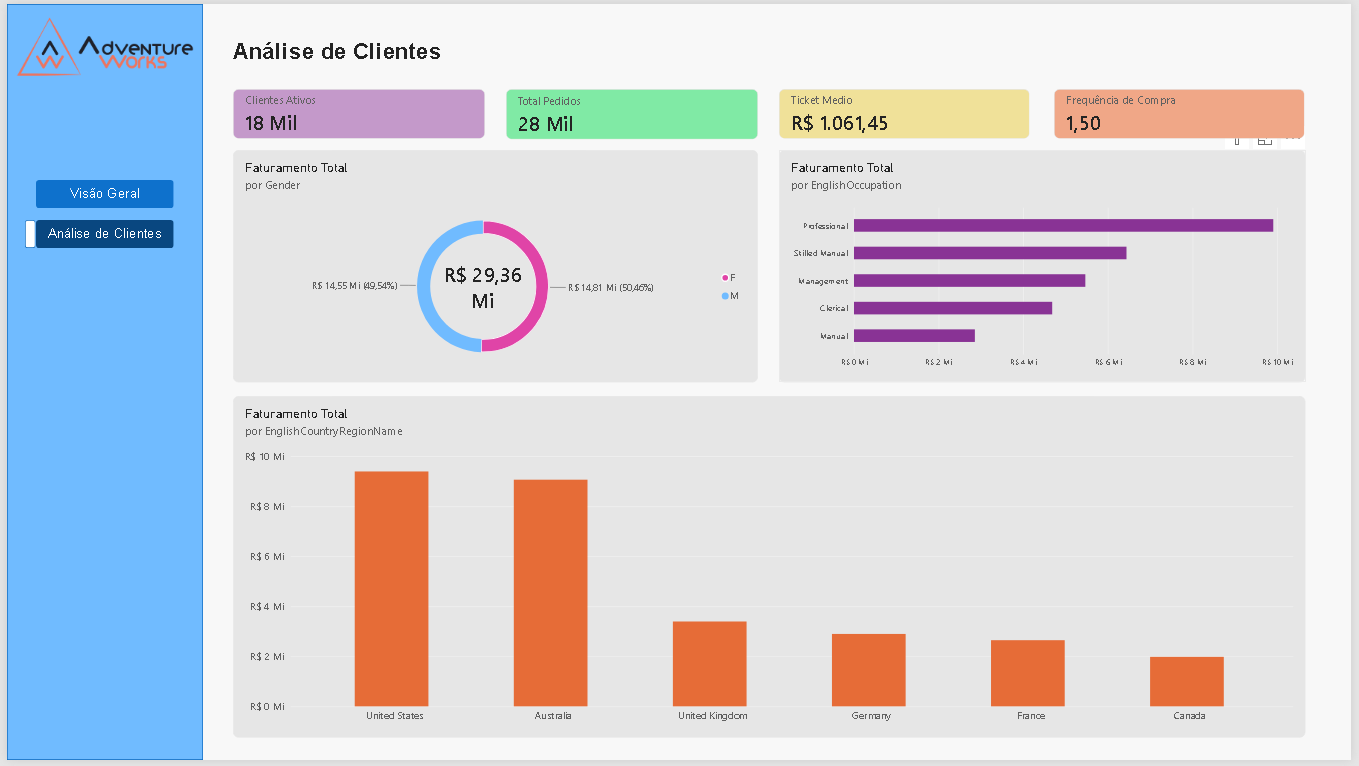

What the dashboard file says about the page in this screenshot:
{"tool":"powerbi","page":{"name":"Análise de Clientes","canvas":[1920,1080],"ordinal":1},"visuals":[{"type":"shape","box":[0,0,280,1080],"z":0},{"type":"image","box":[0,0,280,122],"z":1000},{"type":"textbox","box":[323.3,48.3,360,40],"z":2000},{"type":"donutChart","title":"Faturamento por Gênero","fields":{"Category":["DimCustomer.Gender"],"Y":["FactInternetSales.Faturamento Total"]},"box":[323.3,208.3,750,331.7],"z":3000},{"type":"cardVisual","fields":{"Data":["FactInternetSales.Clientes Ativos"]},"box":[323.3,121.7,360,71.7],"z":4000},{"type":"cardVisual","fields":{"Data":["FactInternetSales.Total Pedidos"]},"box":[712.5,121.2,360,72],"z":5000},{"type":"cardVisual","fields":{"Data":["FactInternetSales.Ticket Medio"]},"box":[1103.3,121.7,358.3,71.7],"z":6000},{"type":"clusteredColumnChart","title":"Faturamento por País","fields":{"Category":["DimGeography.EnglishCountryRegionName"],"Y":["FactInternetSales.Faturamento Total"]},"box":[323.3,560,1531.7,488.3],"z":7000},{"type":"barChart","title":"Faturamento por Profissão","fields":{"Category":["DimCustomer.EnglishOccupation"],"Y":["FactInternetSales.Faturamento Total"]},"box":[1103.3,208.3,751.7,331.7],"z":8000},{"type":"actionButton","box":[41.7,250.8,196.7,40],"z":9000},{"type":"actionButton","box":[41.7,308.3,196.7,40],"z":10000},{"type":"shape","box":[25,308.5,12,40],"z":11000},{"type":"cardVisual","fields":{"Data":["FactInternetSales.Frequência de Compra"]},"box":[1495.7,121.4,358.6,71.4],"z":12000},{"type":"actionButton","box":[41.7,361.2,196.7,40],"z":12001}]}

Visuals, with their boxes on the page's 1920x1080 design canvas (x1, y1, x2, y2). These are canvas units, not pixel positions in the 1359x766 screenshot, which may show the page scaled, cropped or inside an application window:
shape: (left=0, top=0, right=280, bottom=1080)
image: (left=0, top=0, right=280, bottom=122)
textbox: (left=323, top=48, right=683, bottom=88)
"Faturamento por Gênero" donutChart: (left=323, top=208, right=1073, bottom=540)
cardVisual - FactInternetSales.Clientes Ativos: (left=323, top=122, right=683, bottom=193)
cardVisual - FactInternetSales.Total Pedidos: (left=712, top=121, right=1072, bottom=193)
cardVisual - FactInternetSales.Ticket Medio: (left=1103, top=122, right=1462, bottom=193)
"Faturamento por País" clusteredColumnChart: (left=323, top=560, right=1855, bottom=1048)
"Faturamento por Profissão" barChart: (left=1103, top=208, right=1855, bottom=540)
actionButton: (left=42, top=251, right=238, bottom=291)
actionButton: (left=42, top=308, right=238, bottom=348)
shape: (left=25, top=308, right=37, bottom=348)
cardVisual - FactInternetSales.Frequência de Compra: (left=1496, top=121, right=1854, bottom=193)
actionButton: (left=42, top=361, right=238, bottom=401)
